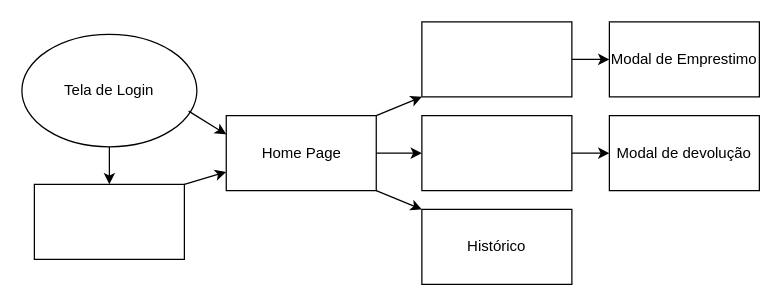
Image size: 781x306. Some labels were removed from this diagram. Here are the shapes that lost their labels. From the top down, the box of each, then its label:
(421, 21, 572, 97): Emprestar
(421, 114, 572, 191): Devolver
(33, 183, 184, 259): Tela de esqueceu a senha
